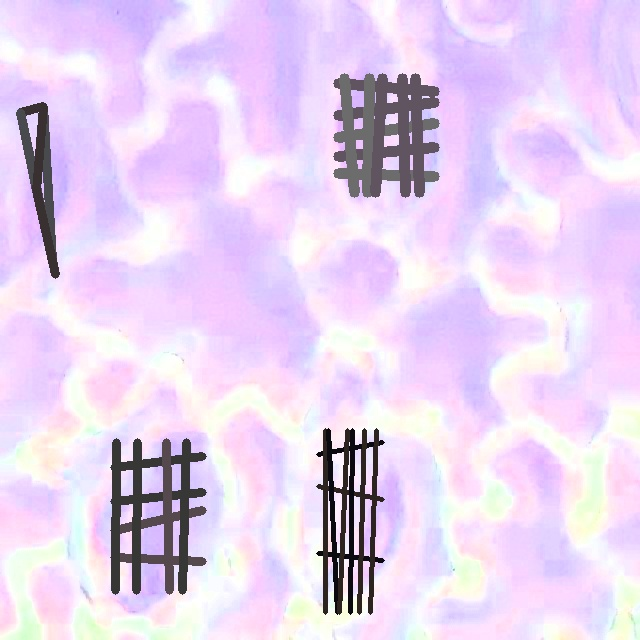open: (110, 439, 205, 593), (334, 74, 438, 196), (317, 428, 384, 613), (16, 103, 56, 277)
